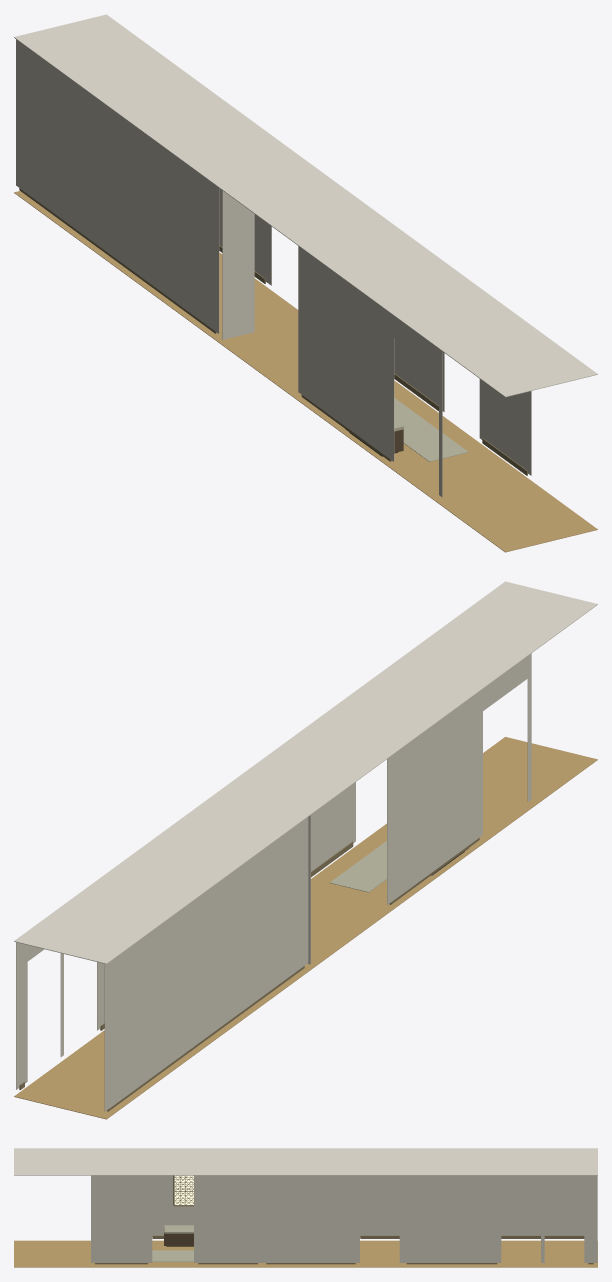
File: corridor-2.glb
3 renders of one model, top to bottom at view 1: azimuth 30°, elevation 25°; view 2: azimuth 150°, elevation 25°; view 3: azimuth 270°, elevation 25°, orthographic. The views are drawn at different scales.
Visible parts, largest first — view 1: DESIGN | Entrance coordinated ceiling, DESIGN | Entrance paired wall finish, DESIGN | Entrance floor finish, DESIGN | Entrance paired wall finish.003, DESIGN | Arch approach finish, DESIGN | Entrance paired wall finish.013, DESIGN | Entrance quiet runner, DESIGN | Entrance paired wall finish.012, DESIGN | Entrance paired wall finish.006, DESIGN | Entrance paired wall finish.002; view 2: DESIGN | Entrance coordinated ceiling, DESIGN | Entrance paired wall finish, DESIGN | Entrance floor finish, DESIGN | Entrance paired wall finish.003, DESIGN | Entrance paired wall finish.012, DESIGN | Entrance paired wall finish.005, DESIGN | Entrance quiet runner, DESIGN | Entrance paired wall finish.002, DESIGN | Entrance paired wall finish.001; view 3: DESIGN | Entrance coordinated ceiling, DESIGN | Entrance paired wall finish.006, DESIGN | Entrance paired wall finish.009, DESIGN | Entrance floor finish, DESIGN | Entrance paired wall finish.012, DESIGN | Entrance paired wall finish, DESIGN | Entrance paired wall finish.013, DESIGN | Entrance paired wall finish.003, DESIGN | Entrance paired wall finish.005, DESIGN | Entrance paired wall finish.007, DESIGN | Entrance paired wall finish.010, DESIGN | Entrance paired wall finish.004 (+8 smaller).
Part boxes in pixels (x1,y1,x2,y2): DESIGN | Entrance coordinated ceiling: (14,14,597,397); DESIGN | Entrance paired wall finish: (16,39,219,333); DESIGN | Entrance floor finish: (14,191,597,552); DESIGN | Entrance paired wall finish.003: (298,246,394,461); DESIGN | Arch approach finish: (222,190,254,339); DESIGN | Entrance paired wall finish.013: (479,379,531,475); DESIGN | Entrance quiet runner: (394,398,468,461); DESIGN | Entrance paired wall finish.012: (394,339,444,411); DESIGN | Entrance paired wall finish.006: (219,188,268,283); DESIGN | Entrance paired wall finish.002: (394,316,438,370); DESIGN | Entrance coordinated ceiling: (14,581,597,964); DESIGN | Entrance paired wall finish: (104,817,308,1111); DESIGN | Entrance floor finish: (14,737,597,1119); DESIGN | Entrance paired wall finish.003: (387,689,482,904); DESIGN | Entrance paired wall finish.012: (311,782,355,871); DESIGN | Entrance paired wall finish.005: (16,942,27,1089); DESIGN | Entrance quiet runner: (329,841,386,892); DESIGN | Entrance paired wall finish.002: (483,656,527,710); DESIGN | Entrance paired wall finish.001: (527,653,531,801); DESIGN | Entrance coordinated ceiling: (14,1148,597,1175); DESIGN | Entrance paired wall finish.006: (402,1175,501,1262); DESIGN | Entrance paired wall finish.009: (262,1175,359,1262); DESIGN | Entrance floor finish: (14,1240,597,1267); DESIGN | Entrance paired wall finish.012: (194,1175,262,1262); DESIGN | Entrance paired wall finish: (360,1176,584,1236); DESIGN | Entrance paired wall finish.013: (91,1175,152,1262); DESIGN | Entrance paired wall finish.003: (152,1175,193,1236); DESIGN | Entrance paired wall finish.005: (584,1175,597,1262); DESIGN | Entrance paired wall finish.007: (501,1175,540,1191); DESIGN | Entrance paired wall finish.010: (360,1175,399,1191); DESIGN | Entrance paired wall finish.004: (545,1175,584,1191).
Bounding box in the file's own units: 1.7 × 2.73 × 15.61.
